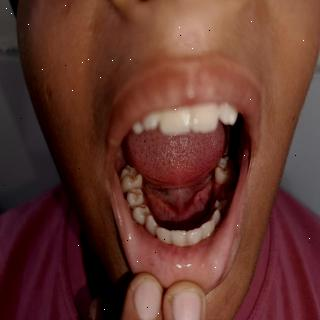maligned: (217, 181, 237, 209)
